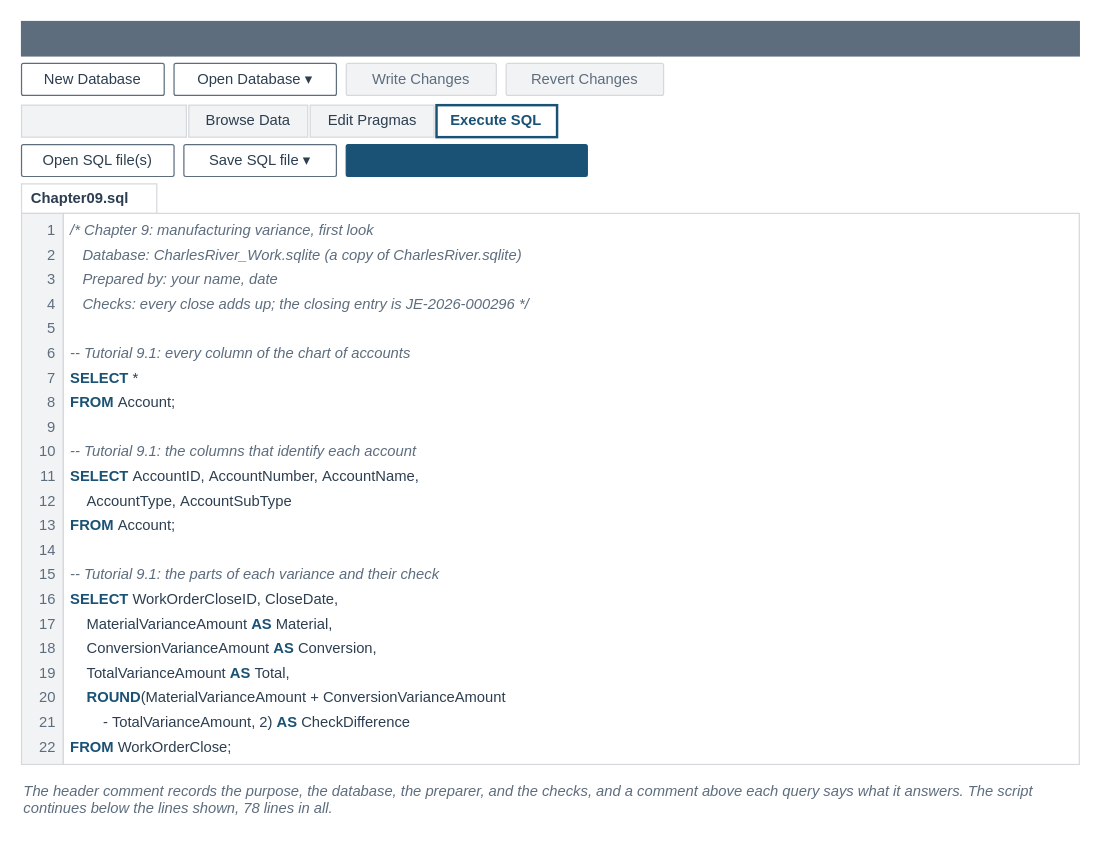
This 1101x847 diagram has some shape labels left out. Here are the shapes that lost their labels. From the top down, the centre of each, then its label:
At pixel 549 38: "DB Browser for SQLite - C:\Users\you\Documents\CharlesRiver_Work.sqlite".
At pixel 103 120: "Database Structure".
At pixel 466 160: "▶ Execute all/selected SQL".
